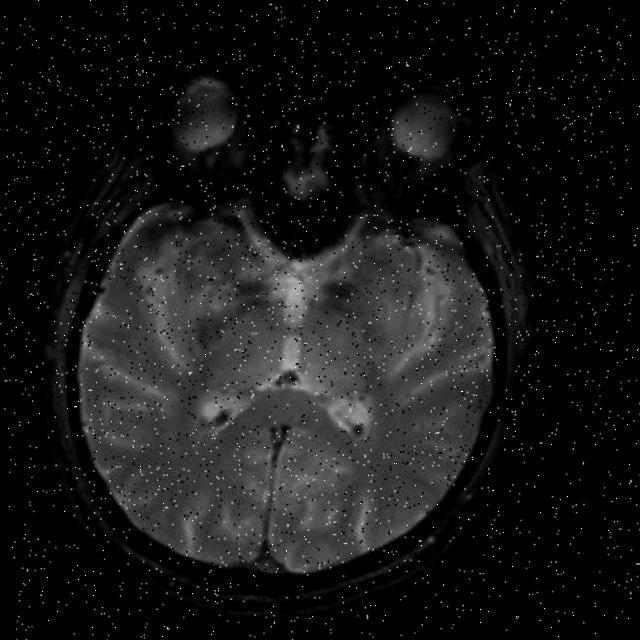MCI: (186, 228, 277, 364), (292, 267, 386, 359)
